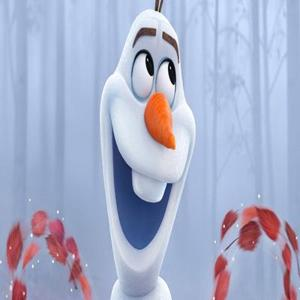olaf: (84, 5, 212, 295)
